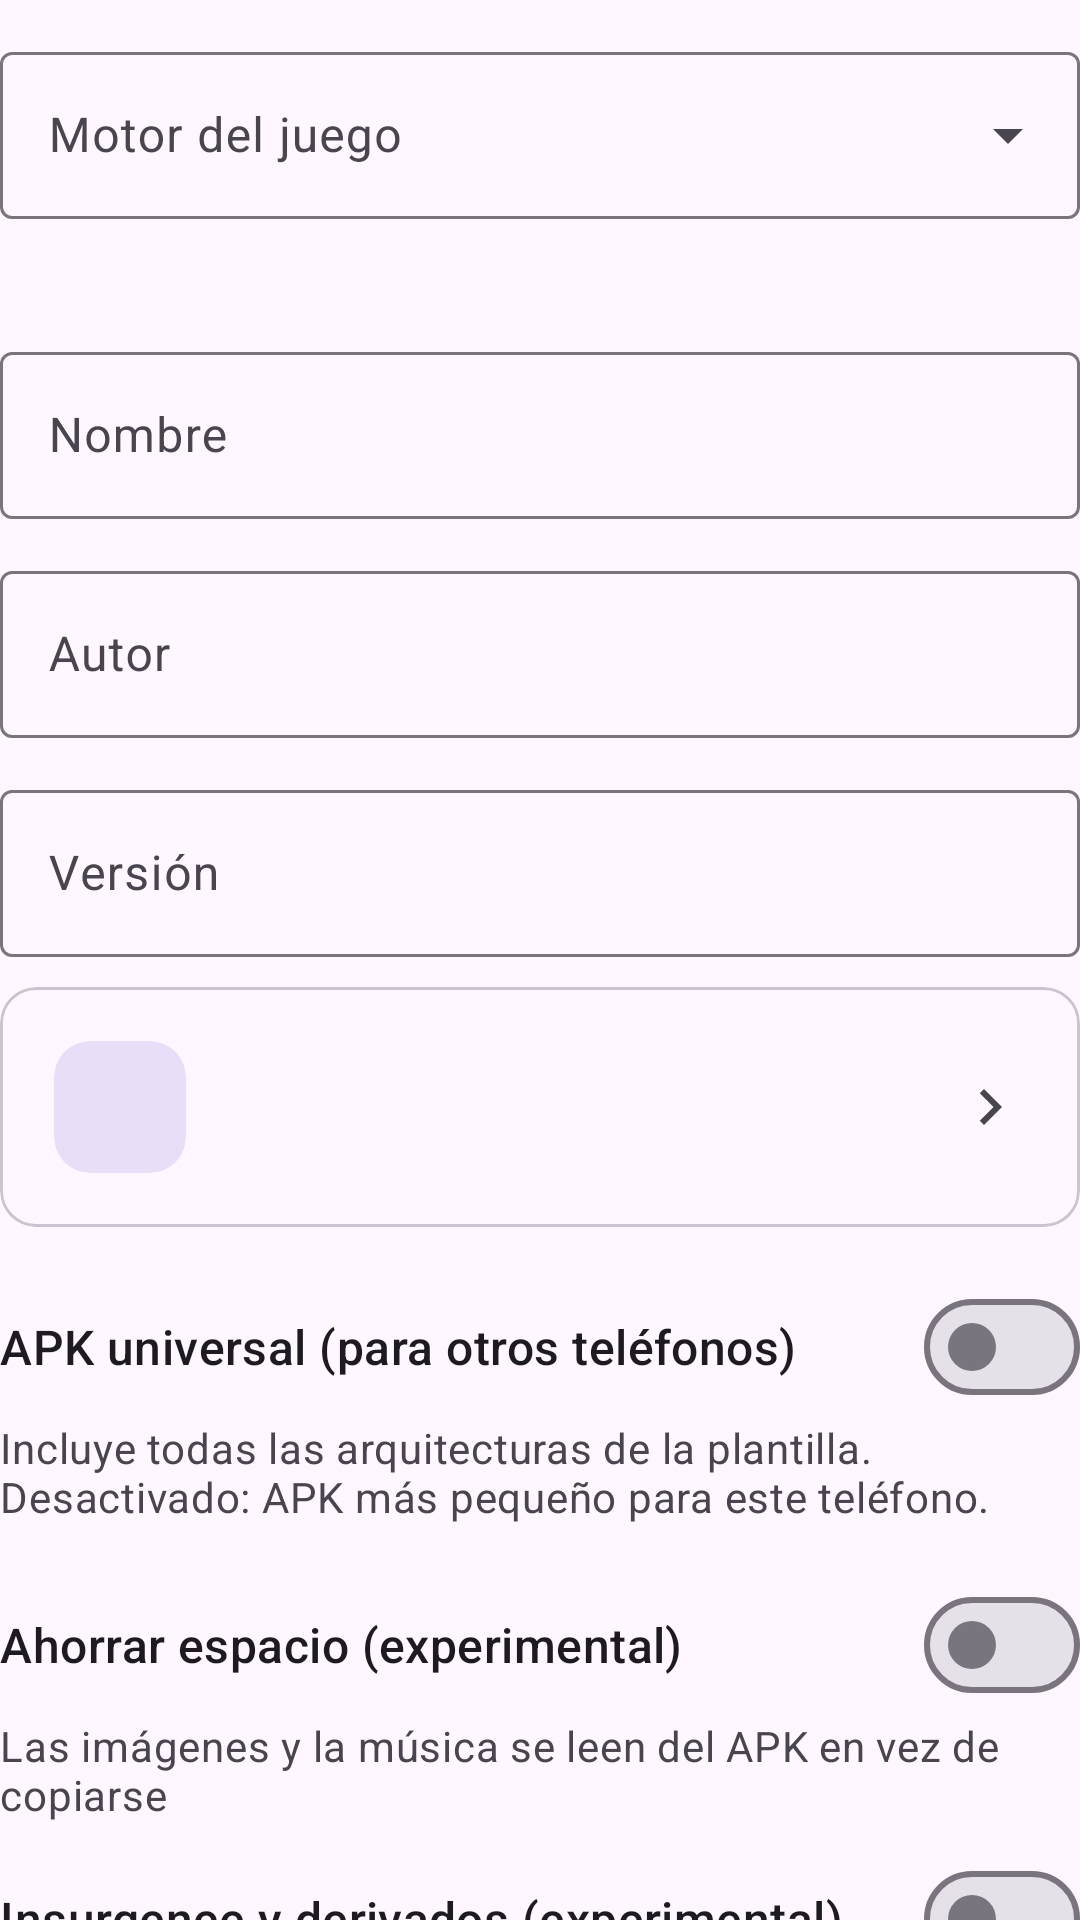

Icons on this 1080×1920 Android screen, each with the point to tap as [x,y]:
chevron: [991,1107]
